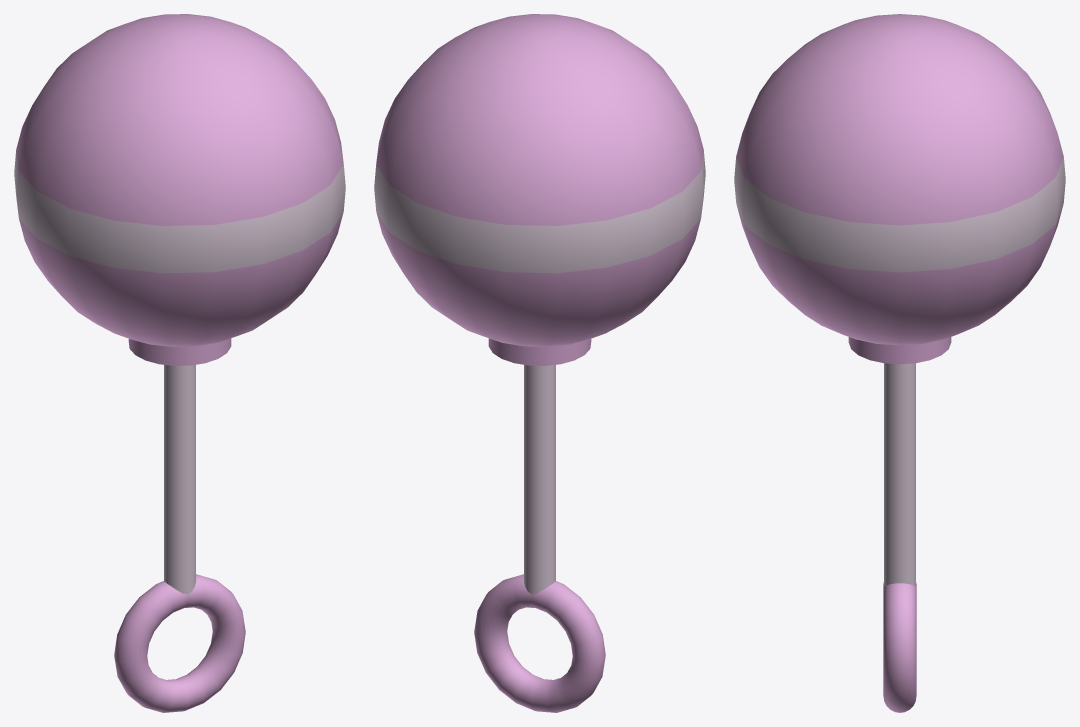
File: SM_Rattle.fbx
3 views of the same model, side by side, from view 1: azimuth 30°, elevation 25°; view 2: azimuth 150°, elevation 25°; view 3: azimuth 270°, elevation 25° (orthographic).
Visible parts, largest first — view 1: RattleTop, RattleBottom; view 2: RattleTop, RattleBottom; view 3: RattleTop, RattleBottom.
Part boxes in pixels (box(x1,y1,x2,y2)): RattleTop: box(14, 14, 345, 594); RattleBottom: box(114, 574, 245, 712); RattleTop: box(374, 14, 705, 594); RattleBottom: box(474, 574, 605, 712); RattleTop: box(734, 14, 1065, 585); RattleBottom: box(883, 582, 916, 712).
Bounding box in the file's own units: 7.03 × 15.84 × 7.03.
